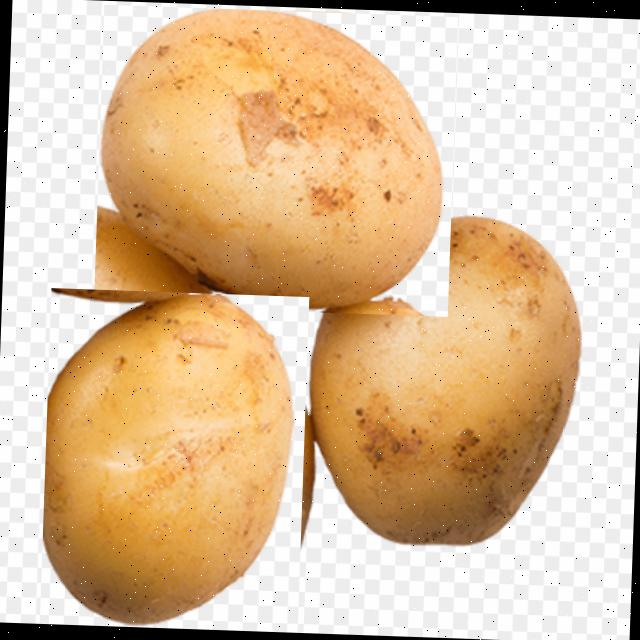Potato: (92, 5, 456, 316), (298, 197, 586, 552), (38, 288, 308, 632)
